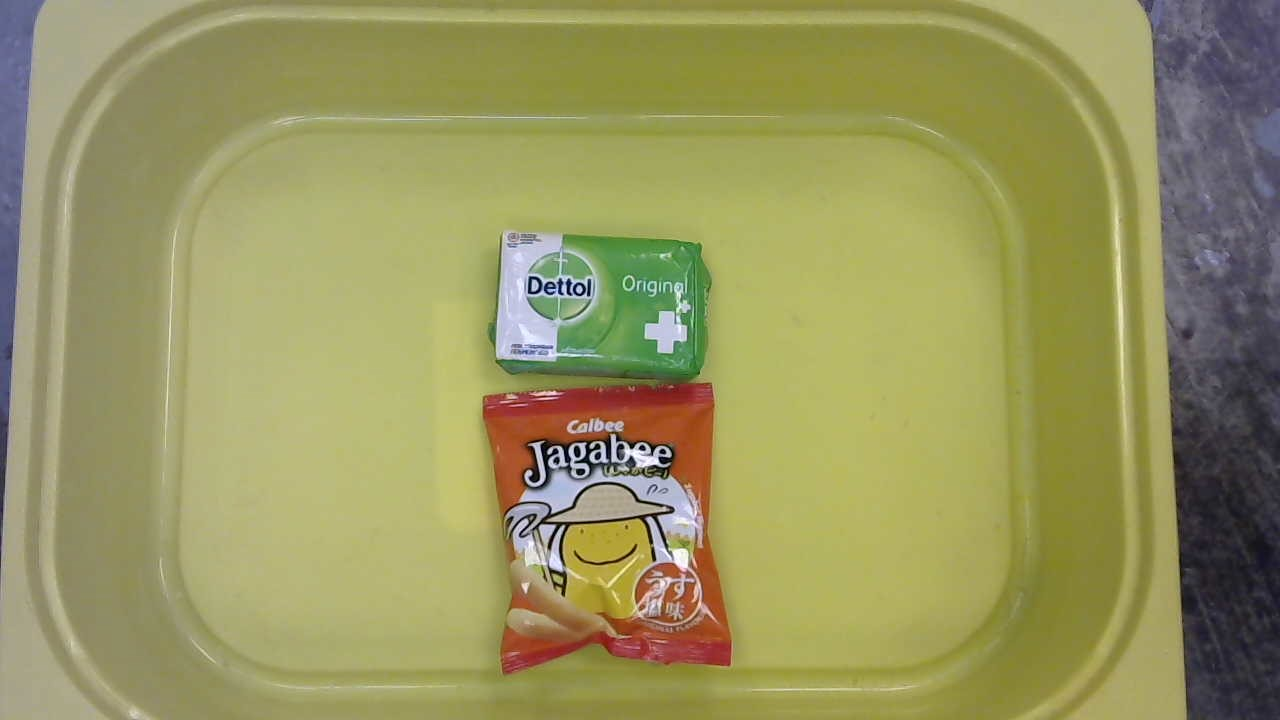Dettol: (485, 222, 720, 385)
JagabeeFarmer: (469, 383, 744, 679)
